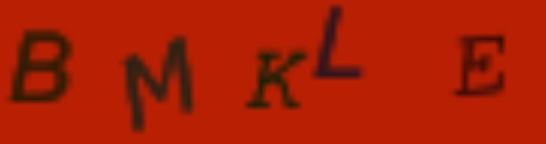B: (9, 27, 77, 106)
E: (454, 31, 512, 98)
K: (248, 49, 310, 111)
L: (313, 4, 366, 83)
M: (122, 33, 194, 135)
